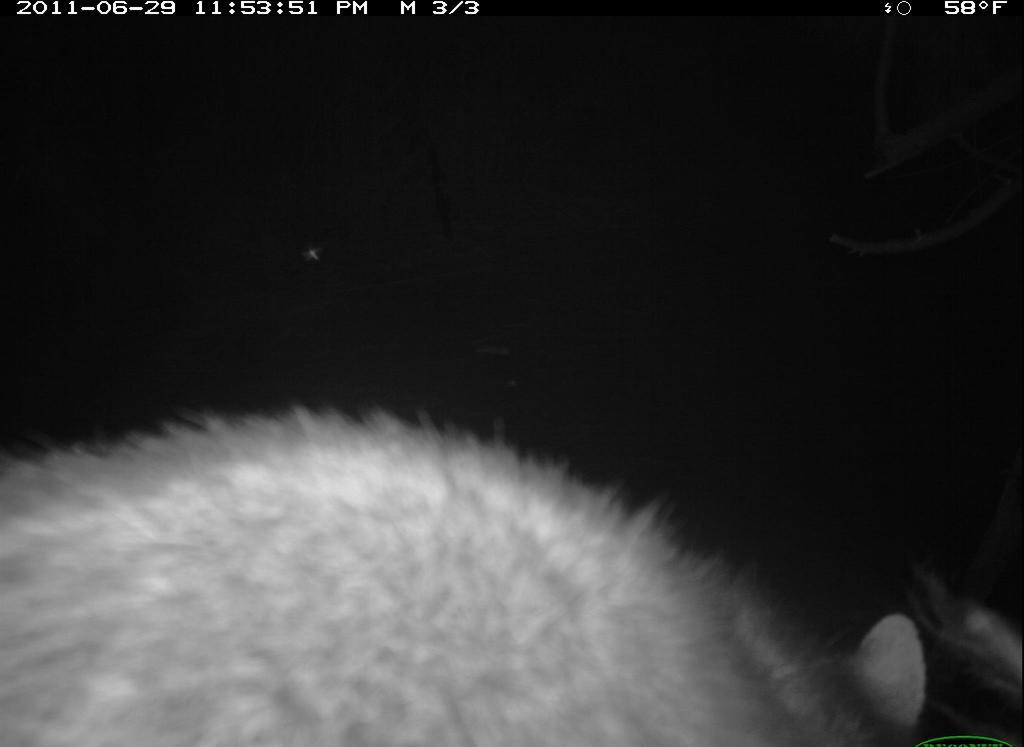raccoon: (4, 341, 968, 742)
